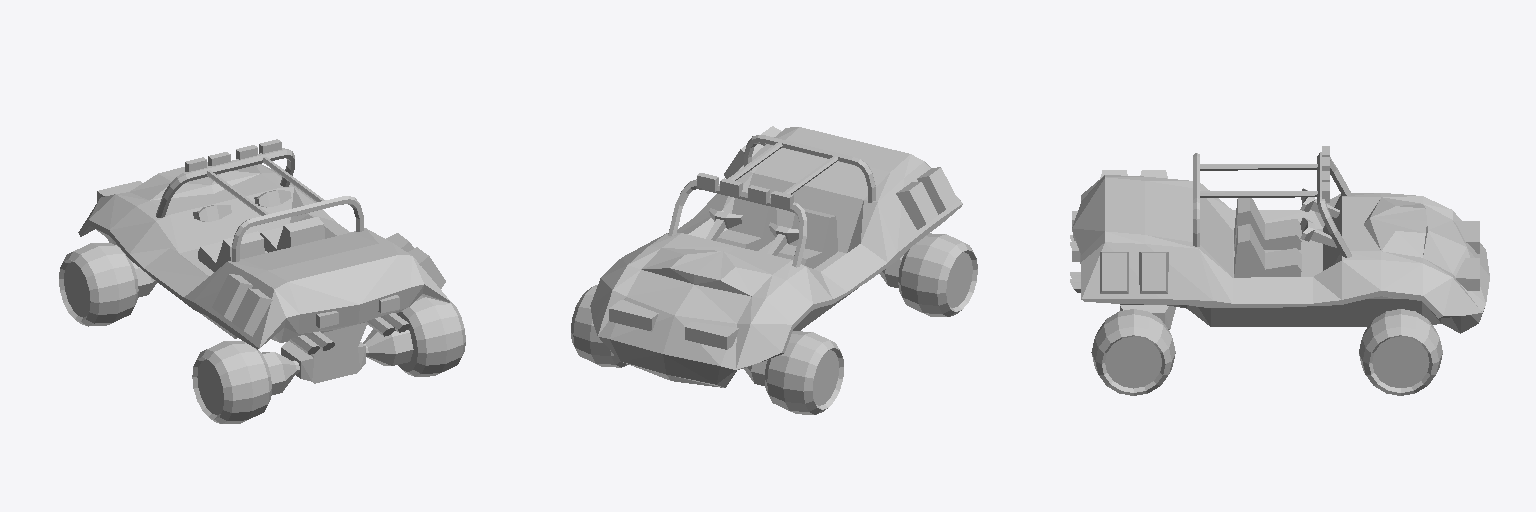
The model's file is jeep.obj.
3 views of the same model, side by side, from view 1: azimuth 30°, elevation 25°; view 2: azimuth 150°, elevation 25°; view 3: azimuth 270°, elevation 25° (orthographic).
Parts seen in each view (by area): view 1: <MS3DRoot>; view 2: <MS3DRoot>; view 3: <MS3DRoot>.
Boxes of the visible parts, <box> form: <MS3DRoot>: <box>59,139,465,423</box>; <MS3DRoot>: <box>571,126,977,414</box>; <MS3DRoot>: <box>1070,146,1489,395</box>.
Size of the model in its own units: 11.06 by 7.64 by 16.65.